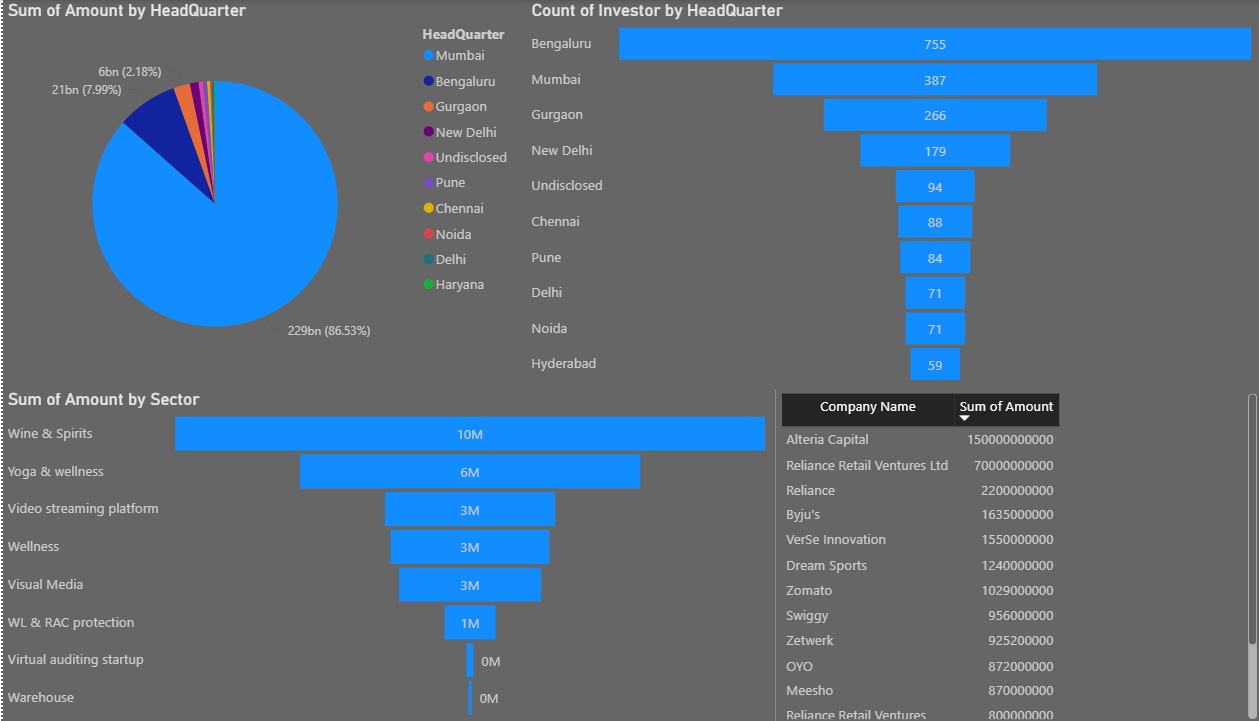

What the dashboard file says about the page in this screenshot:
{"tool":"powerbi","page":{"name":"Page 2","canvas":[1280,720],"ordinal":1},"visuals":[{"type":"pieChart","fields":{"Category":["Sheet1.HeadQuarter"],"Y":["Sum(Sheet1.Amount)"]},"box":[0,0,521.4,387],"z":0},{"type":"tableEx","fields":{"Values":["Sheet1.Company Name","Sum(Sheet1.Amount)"]},"box":[768.4,387,484.4,333.4],"z":1000},{"type":"funnel","fields":{"Category":["Sheet1.Sector"],"Y":["Sum(Sheet1.Amount)"]},"box":[0,387,768.4,333.4],"z":2000},{"type":"funnel","fields":{"Category":["Sheet1.HeadQuarter"],"Y":["CountNonNull(Sheet1.Investor)"]},"box":[521.4,0,731.4,387],"z":3000}]}

Visuals, with their boxes in screenshot pixels (x1, y1, x2, y2), scaled from the page's 1280x720 canvas onto the 1259x721 screenshot:
pieChart - Sheet1.HeadQuarter x Sum(Sheet1.Amount): box(0, 0, 513, 388)
tableEx - Sheet1.Company Name x Sum(Sheet1.Amount): box(756, 388, 1232, 720)
funnel - Sheet1.Sector x Sum(Sheet1.Amount): box(0, 388, 756, 720)
funnel - Sheet1.HeadQuarter x CountNonNull(Sheet1.Investor): box(513, 0, 1232, 388)
